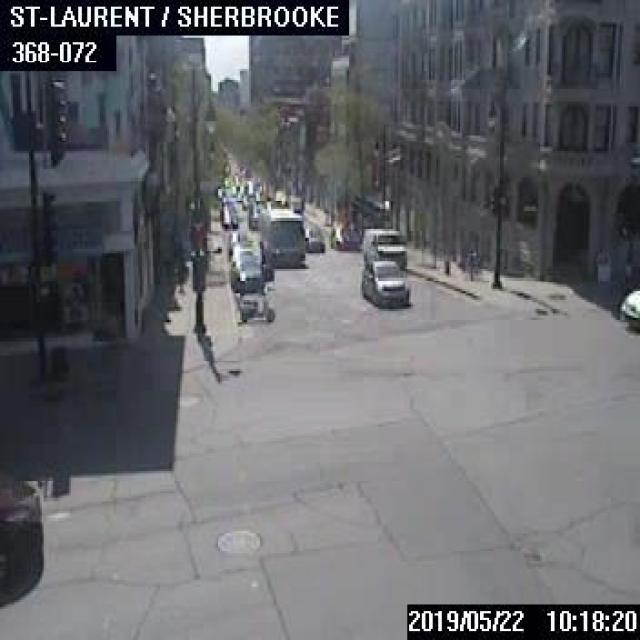bus: (258, 207, 304, 265)
pedestrian: (465, 247, 477, 277)
vehicle: (0, 465, 42, 571), (358, 258, 409, 304), (360, 226, 406, 266), (235, 283, 274, 320), (228, 254, 262, 289), (620, 284, 638, 329), (330, 223, 360, 247), (247, 200, 266, 227), (303, 226, 323, 251)
